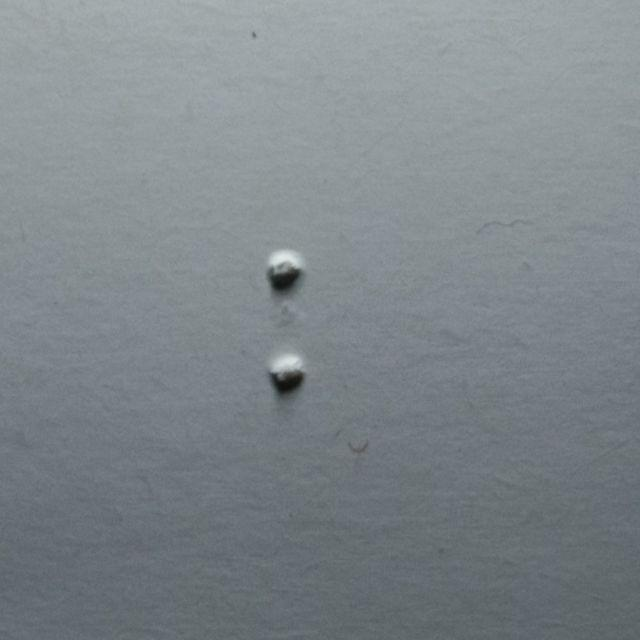kaya: (266, 249, 353, 395)
